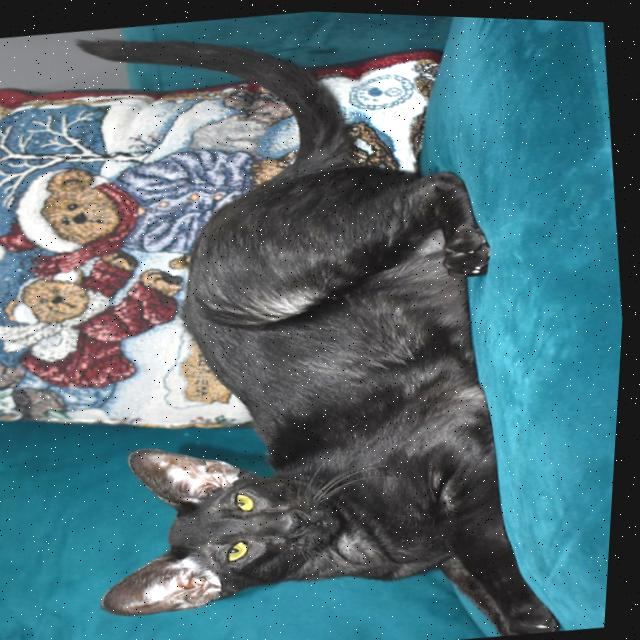Oriental: (29, 2, 601, 640)
